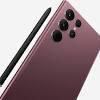Smartphone: (0, 3, 99, 100)
